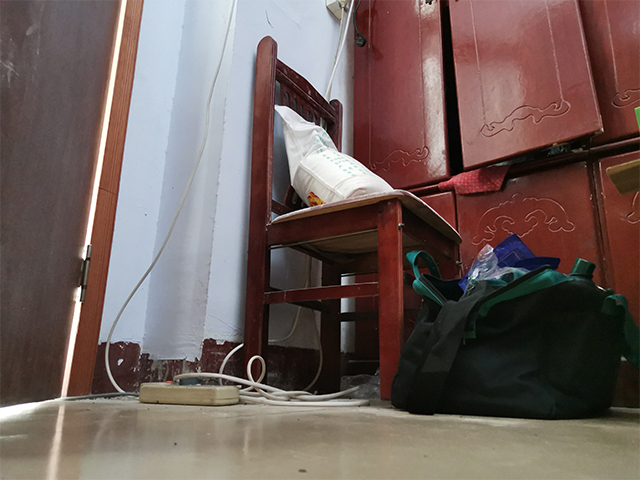cabinet: (352, 1, 640, 413)
stool: (242, 35, 465, 401)
wire: (91, 329, 370, 410)
